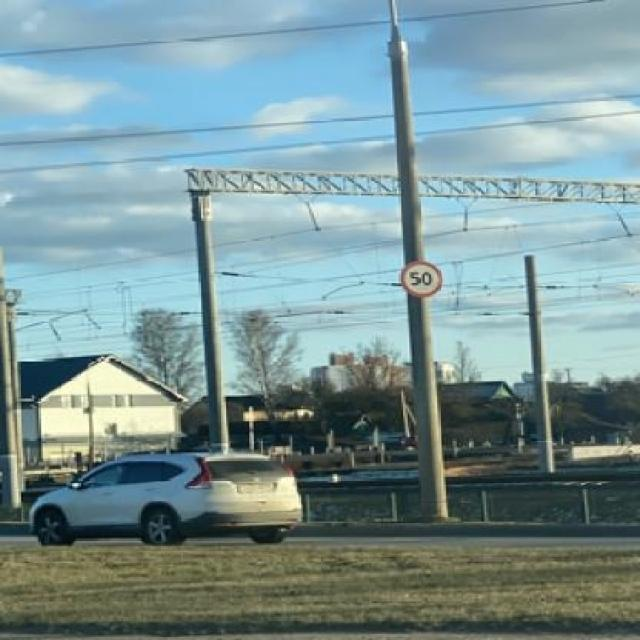forb_speed_over_50: (400, 259, 443, 298)
